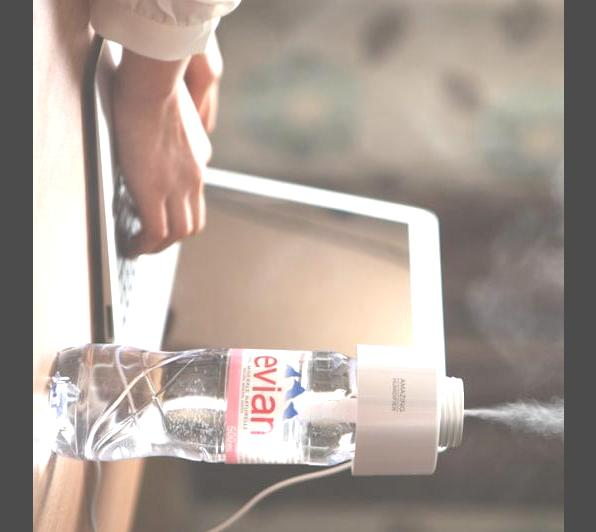bottle: (35, 336, 480, 485)
